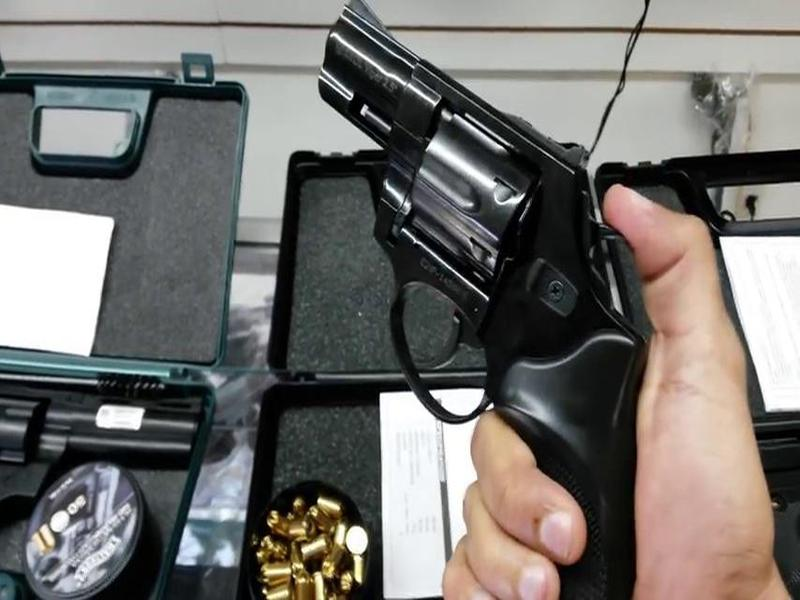Revolver: (299, 5, 657, 574)
